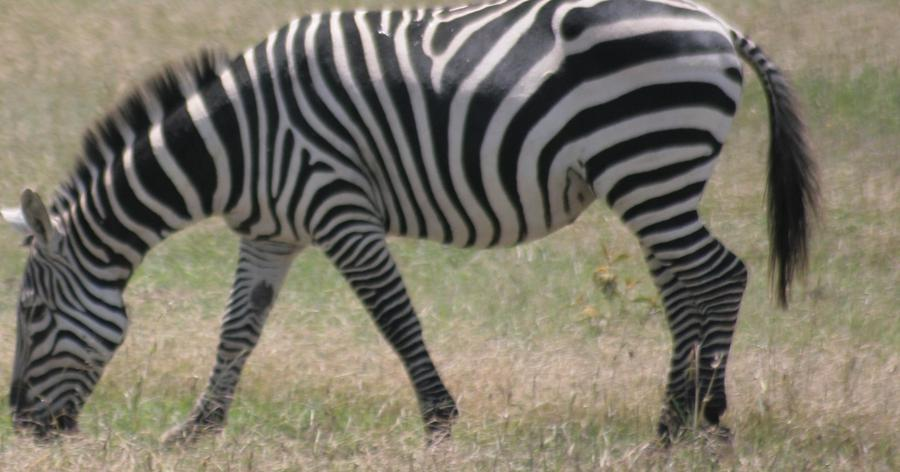zebra_plains: (224, 18, 720, 279)
